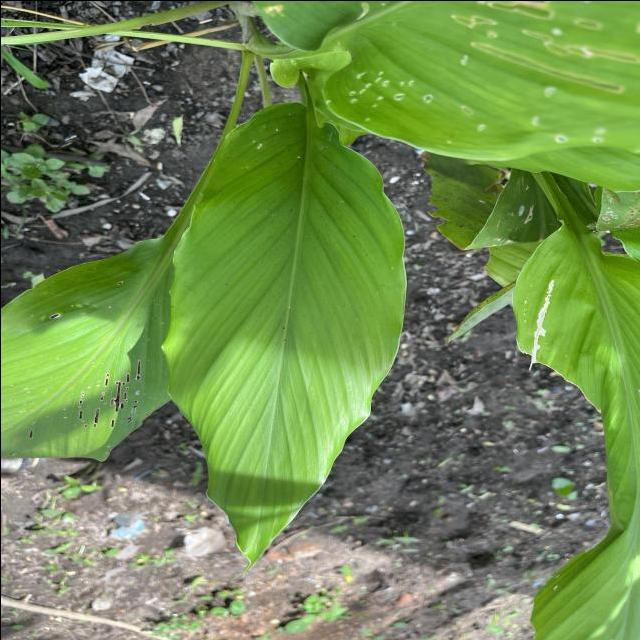Curcuma longa: (150, 98, 412, 582)
